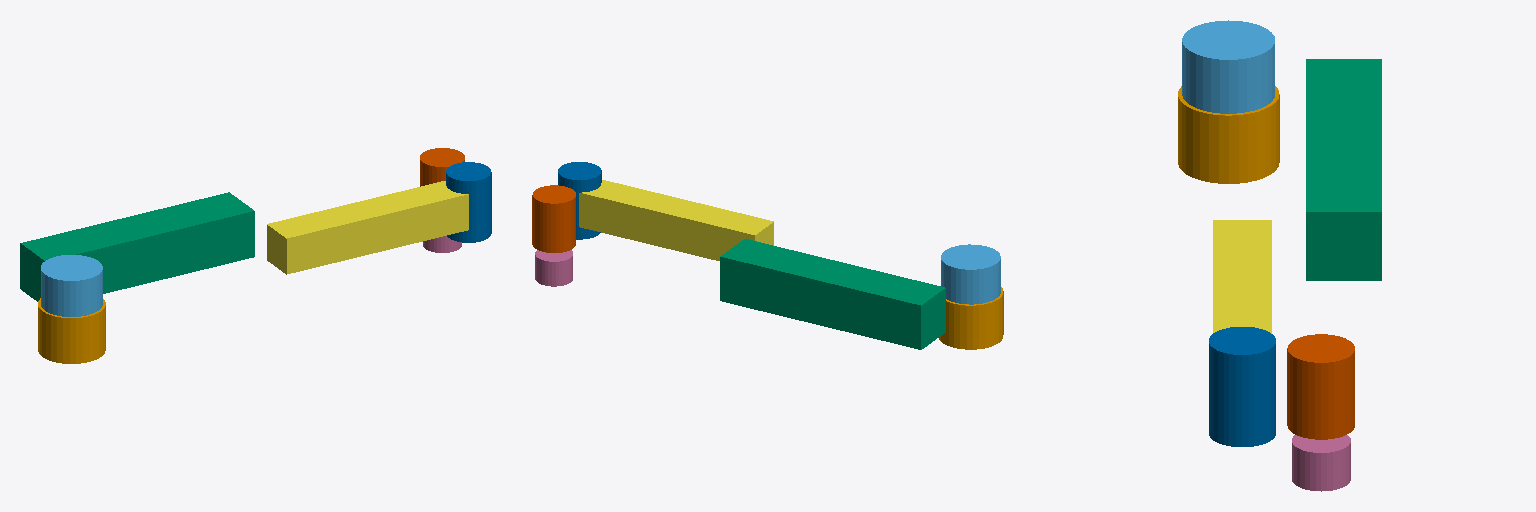
URDF robot description (ur5_simplifie):
<?xml version="1.0"?>
<robot name="ur5_simplifie">
  <link name="base_link"><visual><geometry><cylinder radius="0.06" length="0.089"/></geometry><origin xyz="0 0 0.0445"/></visual></link>
  <link name="shoulder_link"><visual><geometry><cylinder radius="0.055" length="0.14"/></geometry></visual></link>
  <link name="upper_arm_link"><visual><geometry><box size="0.425 0.09 0.09"/></geometry><origin xyz="0 0 0.2125" rpy="0 1.5707963 0"/></visual></link>
  <link name="forearm_link"><visual><geometry><box size="0.39 0.07 0.07"/></geometry><origin xyz="0 0 0.196" rpy="0 1.5707963 0"/></visual></link>
  <link name="wrist_1_link"><visual><geometry><cylinder radius="0.04" length="0.12"/></geometry></visual></link>
  <link name="wrist_2_link"><visual><geometry><cylinder radius="0.04" length="0.1"/></geometry></visual></link>
  <link name="wrist_3_link"><visual><geometry><cylinder radius="0.035" length="0.05"/></geometry></visual></link>
  <link name="tool0"/>
  <joint name="shoulder_pan_joint" type="revolute"><parent link="base_link"/><child link="shoulder_link"/><origin xyz="0 0 0.089159" rpy="0 0 0"/><axis xyz="0 0 1"/><limit lower="-6.28" upper="6.28" effort="150" velocity="3"/></joint>
  <joint name="shoulder_lift_joint" type="revolute"><parent link="shoulder_link"/><child link="upper_arm_link"/><origin xyz="0 0.13585 0" rpy="0 1.570796325 0"/><axis xyz="0 1 0"/><limit lower="-6.28" upper="6.28" effort="150" velocity="3"/></joint>
  <joint name="elbow_joint" type="revolute"><parent link="upper_arm_link"/><child link="forearm_link"/><origin xyz="0 -0.1197 0.425" rpy="0 0 0"/><axis xyz="0 1 0"/><limit lower="-3.14" upper="3.14" effort="150" velocity="3"/></joint>
  <joint name="wrist_1_joint" type="revolute"><parent link="forearm_link"/><child link="wrist_1_link"/><origin xyz="0 0 0.39225" rpy="0 1.570796325 0"/><axis xyz="0 1 0"/><limit lower="-6.28" upper="6.28" effort="28" velocity="3"/></joint>
  <joint name="wrist_2_joint" type="revolute"><parent link="wrist_1_link"/><child link="wrist_2_link"/><origin xyz="0 0.093 0" rpy="0 0 0"/><axis xyz="0 0 1"/><limit lower="-6.28" upper="6.28" effort="28" velocity="3"/></joint>
  <joint name="wrist_3_joint" type="revolute"><parent link="wrist_2_link"/><child link="wrist_3_link"/><origin xyz="0 0 0.09465" rpy="0 0 0"/><axis xyz="0 1 0"/><limit lower="-6.28" upper="6.28" effort="28" velocity="3"/></joint>
  <joint name="ee_fixed_joint" type="fixed"><parent link="wrist_3_link"/><child link="tool0"/><origin xyz="0 0.0823 0" rpy="-1.570796325 0 0"/></joint>
</robot>

--- Facts derived from the render (not from the file) ---
3 views of the same robot in one strip: view 1: azimuth 30°, elevation 25°; view 2: azimuth 150°, elevation 25°; view 3: azimuth 270°, elevation 25° (orthographic).
Robot: ur5_simplifie — 8 links, 7 joints (6 revolute, 1 fixed); root link base_link; default pose: all joints at 0.
Links seen in each view (by area): view 1: upper_arm_link, forearm_link, shoulder_link, base_link, wrist_1_link, wrist_2_link; view 2: upper_arm_link, forearm_link, shoulder_link, wrist_2_link, base_link, wrist_1_link, wrist_3_link; view 3: upper_arm_link, shoulder_link, wrist_1_link, base_link, wrist_2_link, forearm_link, wrist_3_link.
Link boxes in pixels (left/top/right/bottom): upper_arm_link: left=20, top=192, right=254, bottom=301; forearm_link: left=267, top=181, right=468, bottom=274; shoulder_link: left=41, top=255, right=102, bottom=316; base_link: left=38, top=298, right=105, bottom=363; wrist_1_link: left=446, top=162, right=491, bottom=242; wrist_2_link: left=420, top=148, right=464, bottom=186; upper_arm_link: left=720, top=239, right=945, bottom=349; forearm_link: left=579, top=180, right=773, bottom=260; shoulder_link: left=941, top=244, right=1000, bottom=304; wrist_2_link: left=532, top=185, right=575, bottom=252; base_link: left=939, top=287, right=1003, bottom=349; wrist_1_link: left=558, top=162, right=601, bottom=239; wrist_3_link: left=535, top=250, right=572, bottom=286; upper_arm_link: left=1306, top=59, right=1381, bottom=280; shoulder_link: left=1182, top=20, right=1274, bottom=113; wrist_1_link: left=1209, top=327, right=1275, bottom=446; base_link: left=1178, top=86, right=1279, bottom=183; wrist_2_link: left=1287, top=334, right=1354, bottom=439; forearm_link: left=1213, top=220, right=1271, bottom=333; wrist_3_link: left=1292, top=435, right=1350, bottom=491.
Size in the robot's own frame: 0.9172 by 0.2409 by 0.1896 metres.
Geometry: primitives only (box / cylinder / sphere), no mesh files.
